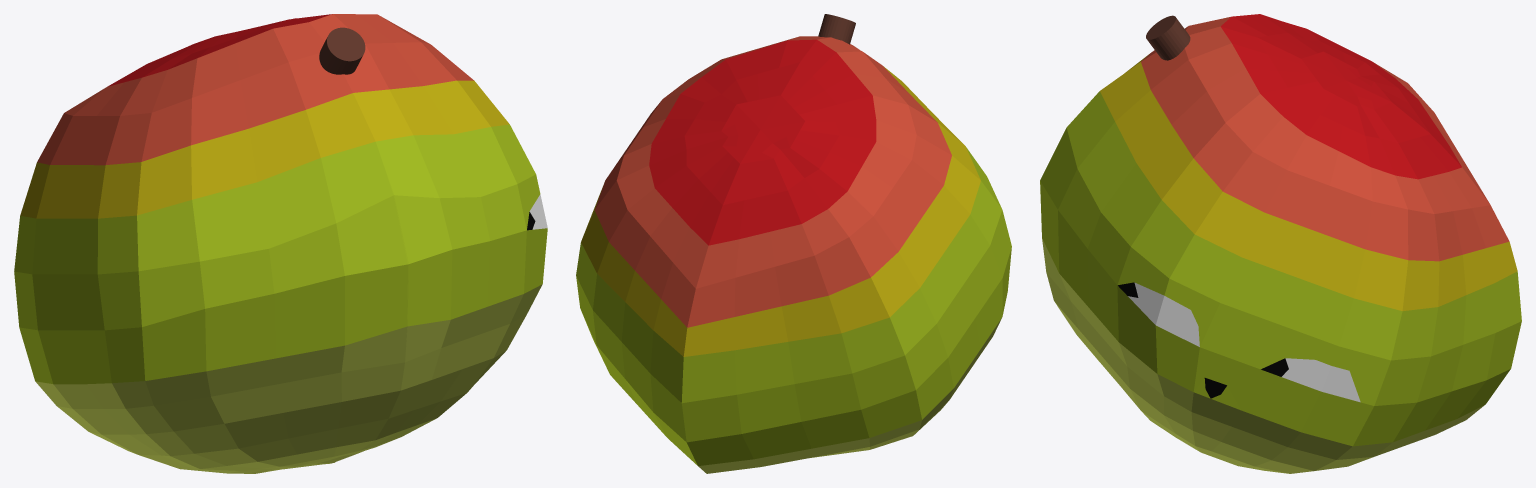
File: mangoposter.fbx
3 renders of one model, left to right at view 1: azimuth 30°, elevation 25°; view 2: azimuth 150°, elevation 25°; view 3: azimuth 270°, elevation 25°, orthographic. The views are drawn at different scales.
Visible parts, largest first — view 1: MangoPoster; view 2: MangoPoster; view 3: MangoPoster.
Boxes of the visible parts, x1,y1,x2,y2 form: MangoPoster: (14, 14, 547, 473); MangoPoster: (576, 14, 1011, 473); MangoPoster: (1040, 14, 1521, 473).
Size of the model in its own units: 2479 by 2582 by 2634.
